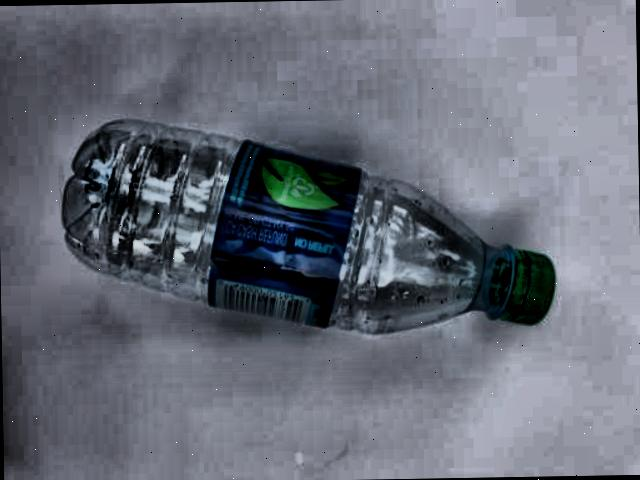Bottles: (49, 105, 560, 375)
